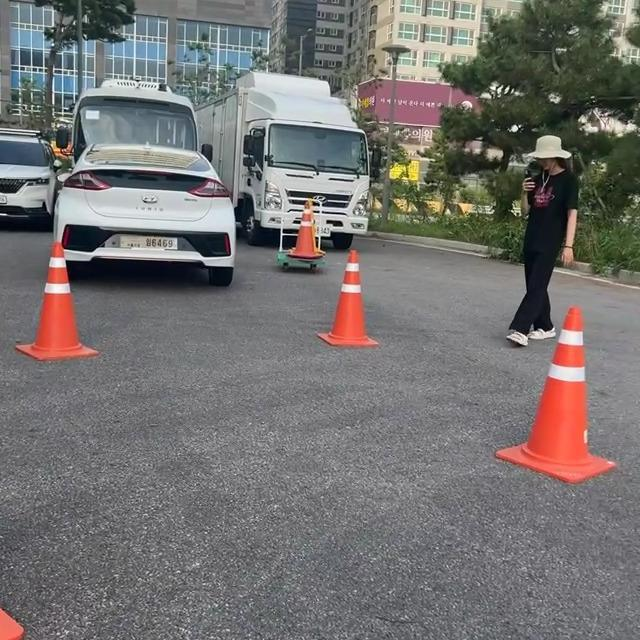fallen_object: (489, 319, 640, 553), (289, 253, 405, 407), (10, 205, 121, 360), (272, 175, 318, 249)
